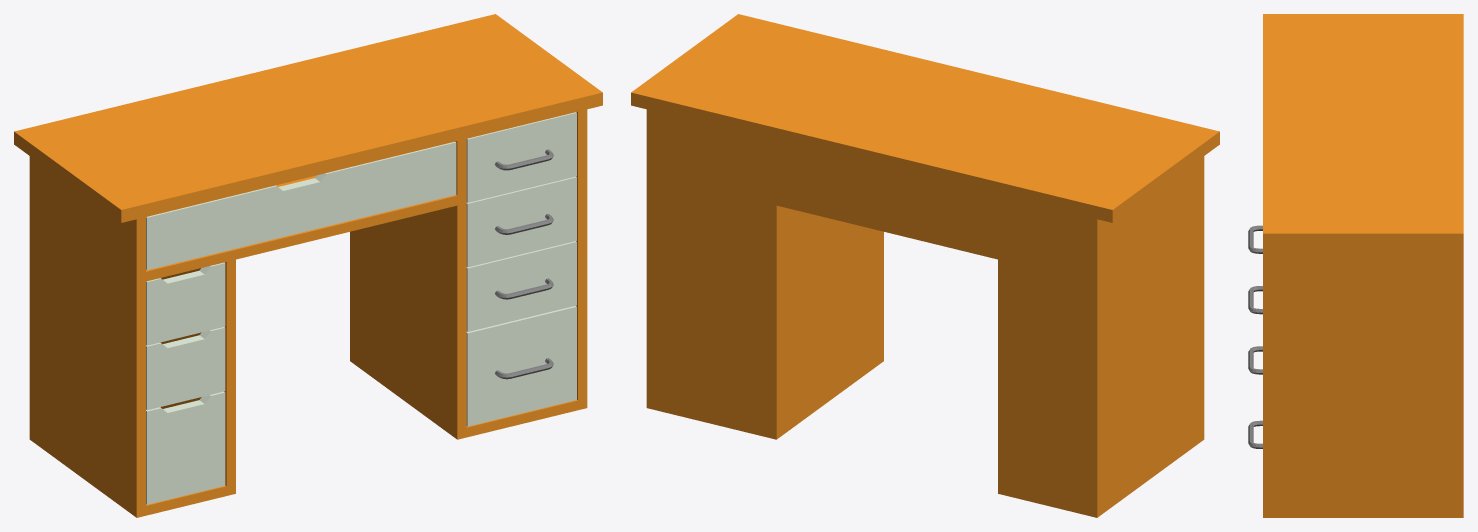
The model's file is Table_12c.fbx.
3 views of the same model, side by side, from view 1: azimuth 30°, elevation 25°; view 2: azimuth 150°, elevation 25°; view 3: azimuth 270°, elevation 25° (orthographic). The views are drawn at different scales.
Visible parts, largest first — view 1: Table_12c; view 2: Table_12c; view 3: Table_12c.
Part boxes in pixels (x1=…): Table_12c: x1=14, y1=14, x2=602, y2=517; Table_12c: x1=631, y1=14, x2=1219, y2=517; Table_12c: x1=1248, y1=14, x2=1463, y2=517.
Size of the model in its own units: 1.55 by 0.9614 by 0.6437.
